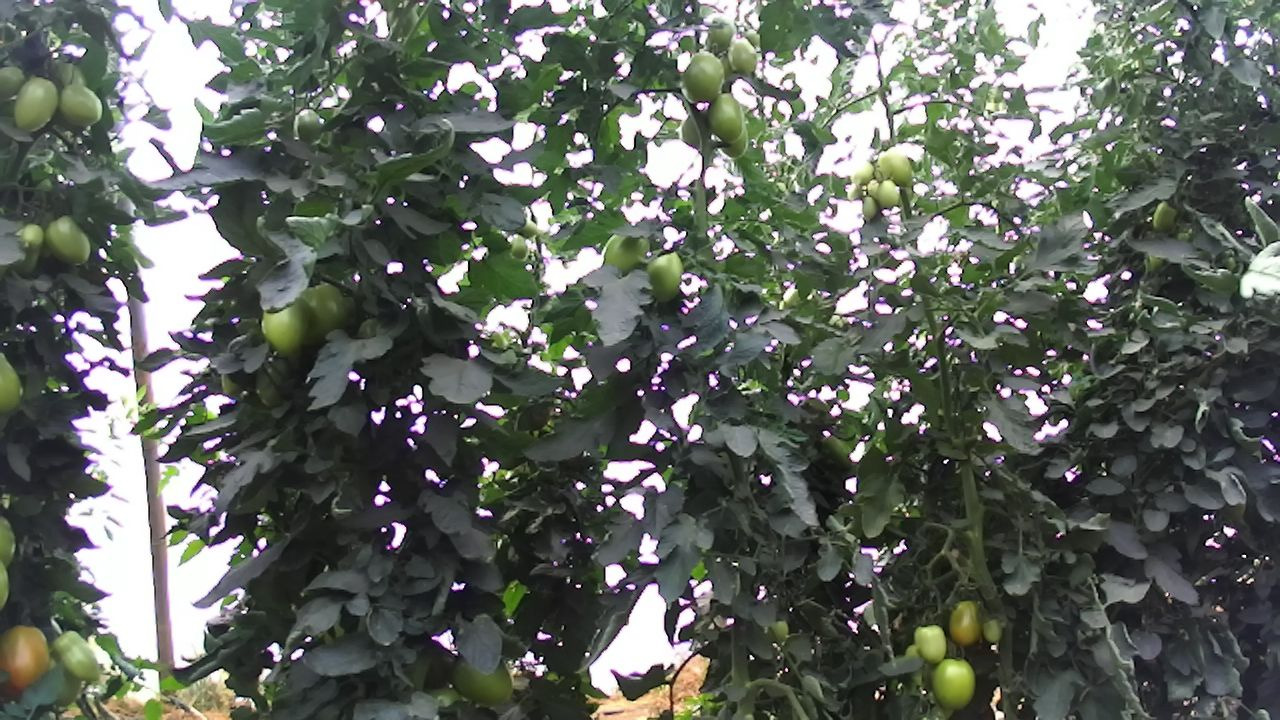tomato: (446, 644, 515, 709), (44, 622, 109, 688), (0, 622, 52, 695), (256, 295, 315, 358), (8, 74, 62, 135), (642, 246, 691, 306), (41, 211, 92, 268), (929, 654, 978, 713), (678, 50, 725, 105), (55, 81, 106, 129), (705, 90, 746, 144), (947, 598, 984, 649), (911, 621, 949, 666), (726, 32, 760, 79), (877, 151, 916, 185), (1147, 196, 1181, 235), (292, 104, 324, 145), (17, 219, 48, 251), (874, 177, 898, 210), (850, 157, 876, 186), (507, 232, 530, 263), (859, 191, 879, 221)
